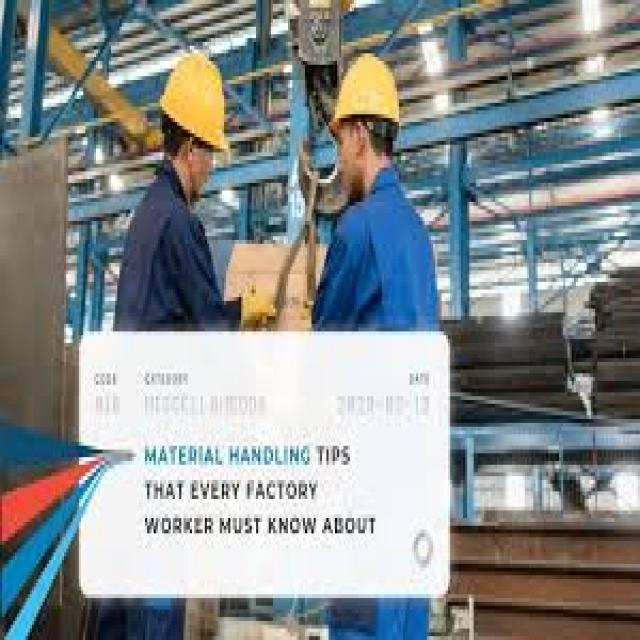Safety-Helmet: (158, 46, 235, 160), (327, 49, 408, 141)
